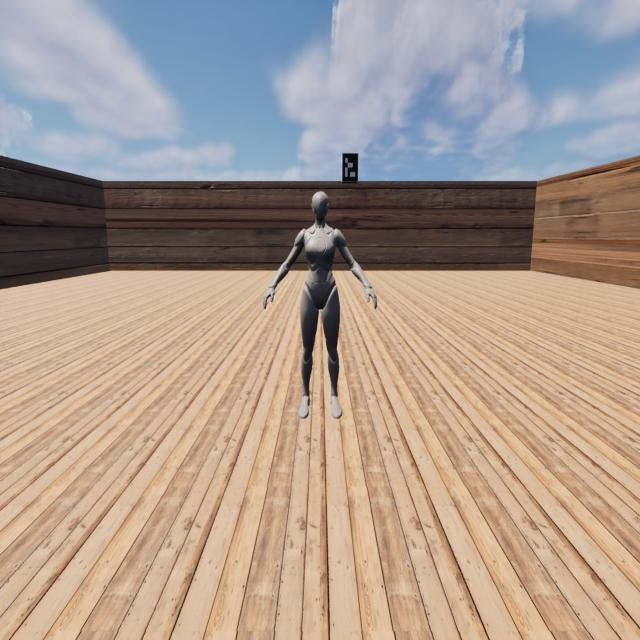aruco: (342, 153, 358, 182)
hip: (302, 284, 338, 300)
